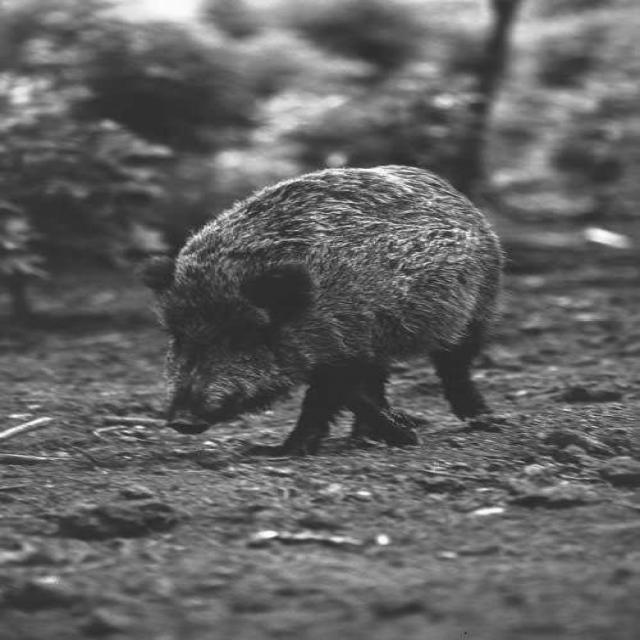boar: (141, 165, 500, 452)
